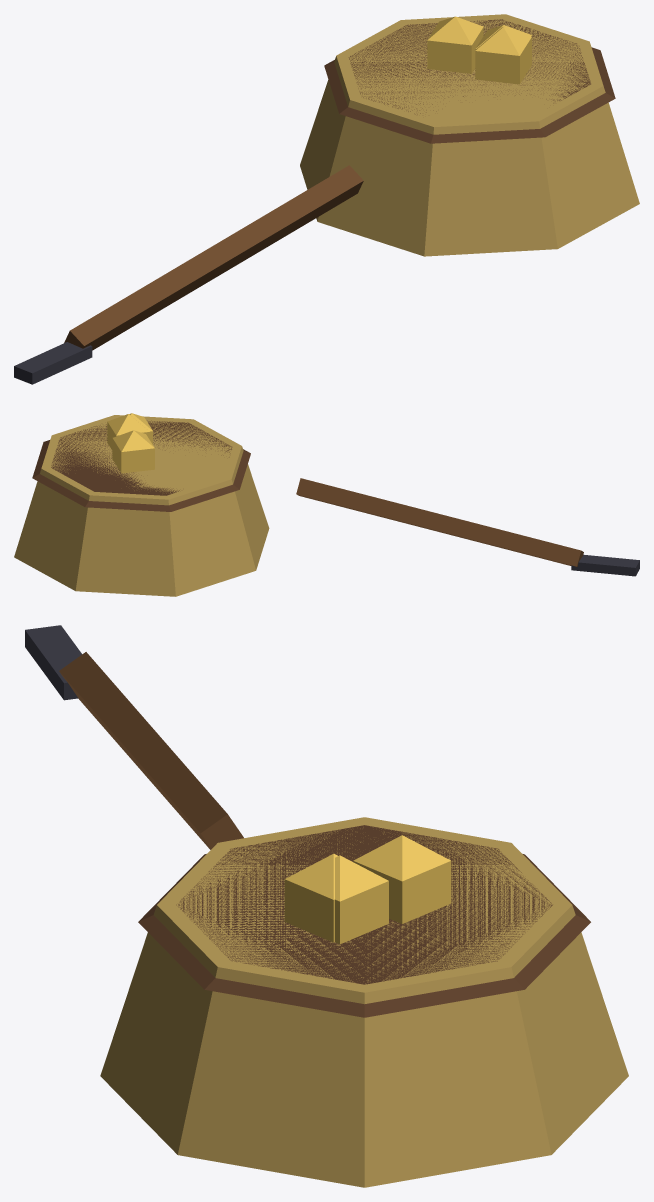
The model's file is cover_hoe_basket.glb.
The picture shows the model from 3 angles, top to bottom: view 1: azimuth 30°, elevation 25°; view 2: azimuth 150°, elevation 25°; view 3: azimuth 270°, elevation 25°; orthographic projection. The views are drawn at different scales.
Visible parts, largest first — view 1: cover_hoe_basket; view 2: cover_hoe_basket; view 3: cover_hoe_basket.
Boxes of the visible parts, x1,y1,x2,y2 form: cover_hoe_basket: (14,14,639,384); cover_hoe_basket: (14,413,639,596); cover_hoe_basket: (25,625,628,1187).
Bounding box in the file's own units: 1.3 × 0.28 × 0.6398.
